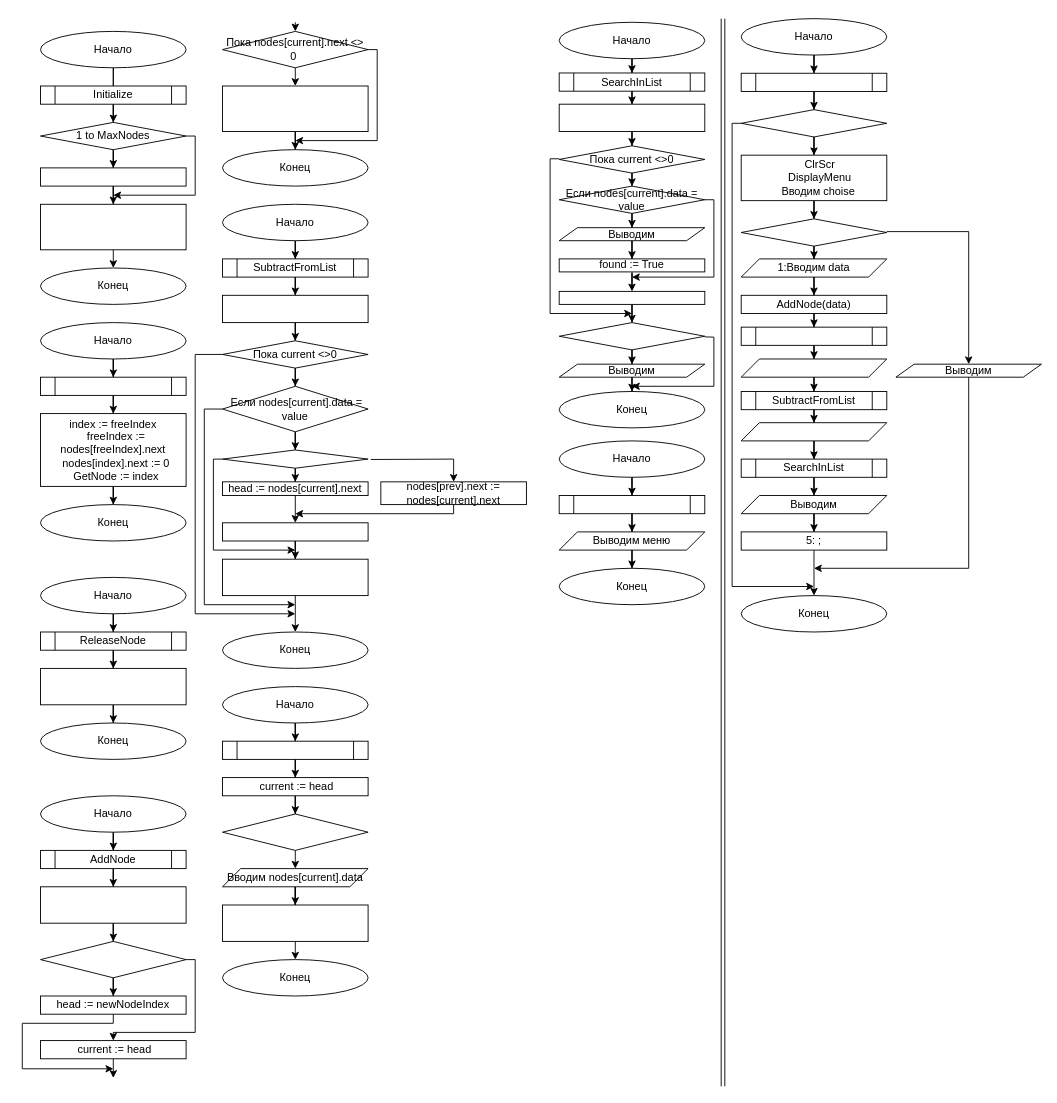
Image size: 1057x1103. Some labels were removed from this diagram. The box of each missing label's shape, as (x1, y1, x2, y2) in pixels:
2:PrintList: (740, 326, 887, 345)
3:Вводим valueToSubtract: (740, 358, 887, 377)
4.Вводим searchValue: (740, 422, 887, 441)
case choice of: (740, 218, 887, 246)
current := head prev := 0: (222, 294, 368, 323)
current := head; found := False: (558, 103, 705, 131)
current := nodes[current].next: (558, 290, 705, 304)
current := nodes[current].next nodes[current].next := newNodeIndex: (222, 85, 368, 131)
current := nodes[current].nextead: (222, 904, 368, 941)
DisplayMenu: (558, 495, 705, 514)
GetNode: (40, 376, 186, 395)
head = 0: (40, 940, 186, 978)
InitializeList: (740, 72, 887, 91)
newNodeIndex := GetNode nodes[newNodeIndex].data := data: (40, 886, 186, 923)
nodes[i].next := i + 1;: (40, 167, 186, 186)
nodes[index].next := freeIndex freeIndex := index: (40, 667, 186, 705)
nodes[MaxNodes].next := 0 head := 0 freeIndex := 1: (40, 203, 186, 250)
prev := current current := nodes[current].next: (222, 558, 368, 596)
PrintList: (222, 740, 368, 759)
ReleaseNode(current): (222, 522, 368, 541)
repeat: (740, 109, 887, 137)
Если not found: (558, 322, 705, 350)
Если prev = 0: (222, 449, 368, 468)
Пока current <> 0: (222, 813, 368, 850)
